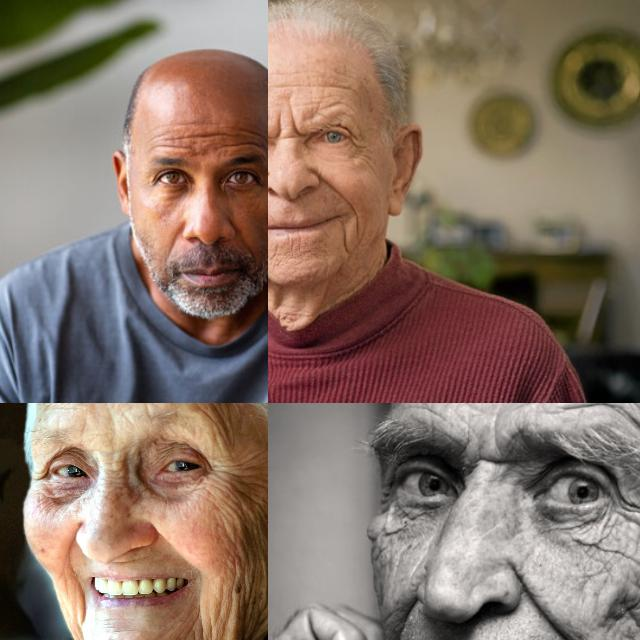chin: (176, 616, 203, 640), (268, 240, 282, 260)
crows_feet: (206, 462, 244, 502), (617, 496, 640, 530), (348, 130, 372, 162), (376, 486, 389, 514)
forehead: (567, 403, 640, 429), (205, 124, 265, 150), (208, 414, 238, 452), (154, 125, 190, 155), (322, 79, 356, 93), (318, 96, 352, 110)
frown_line: (460, 450, 502, 480), (104, 452, 126, 486), (288, 110, 306, 142), (274, 112, 284, 142)
gummy_smile: (508, 561, 589, 640), (152, 526, 194, 570), (62, 532, 86, 584), (394, 594, 420, 640), (316, 171, 348, 203), (230, 223, 256, 255), (165, 223, 185, 255), (348, 206, 364, 238)
masseter: (225, 514, 267, 580), (214, 590, 255, 640), (626, 566, 640, 634)
sad_smile: (335, 220, 351, 256)
